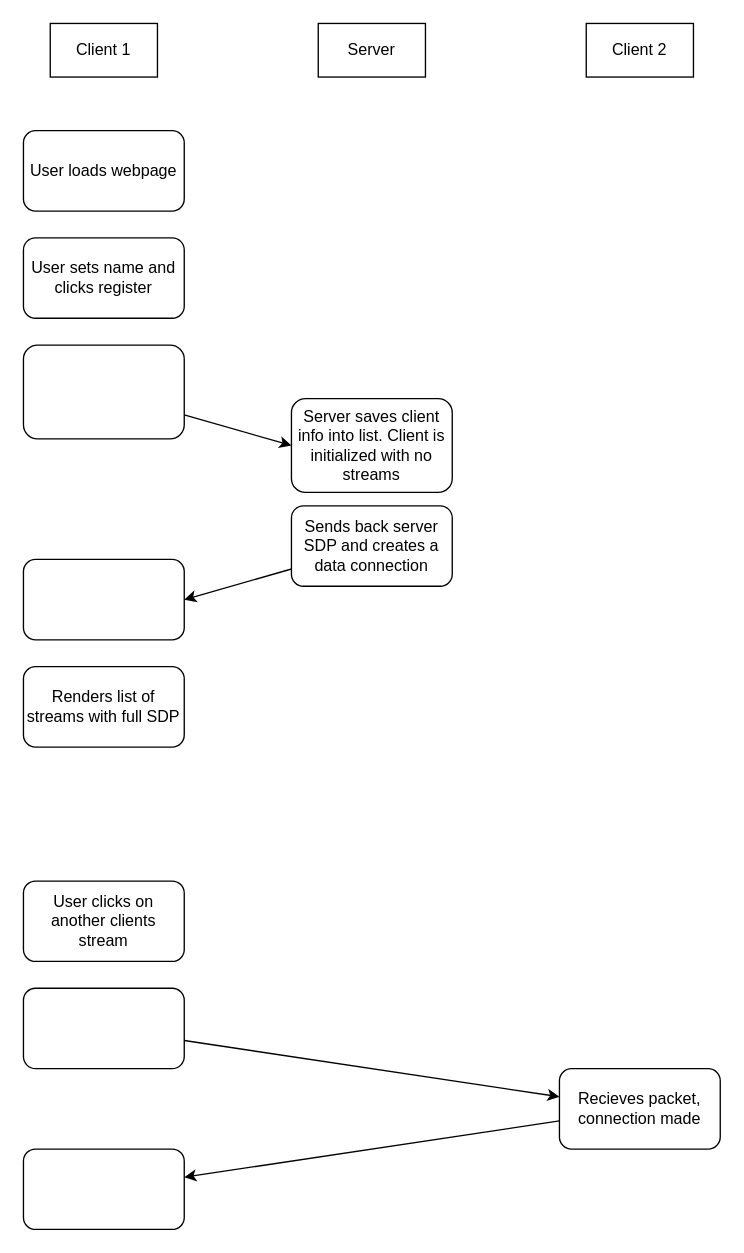
Some shapes in this 744 by 1253 pixel diagram are drawn without their labels. The shapes that lost their labels are listed below. From the top down, each one's centre as x and y in pixels, then its label:
At (x=103, y=391): "Form with webRTC SDP is created and sent to server over socket.io".
At (x=103, y=599): "starts reading from data channel".
At (x=103, y=1028): "Sends SDP directly to the other client".
At (x=103, y=1188): "adds new element to render content to".
